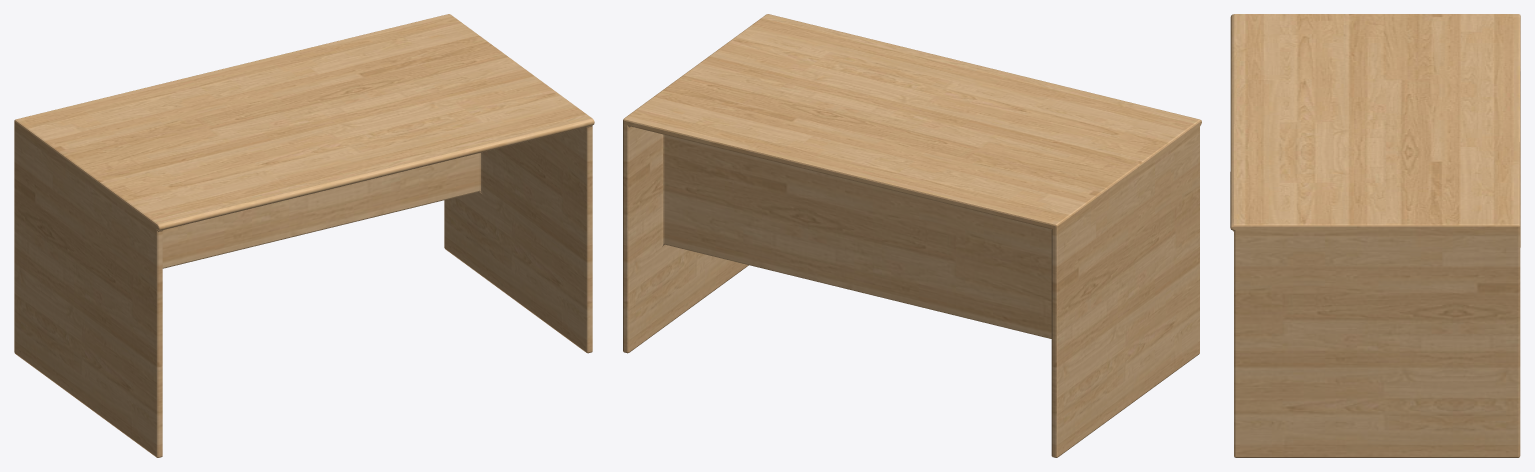
Rendered from desk_2.glb.
3 renders of one model, left to right at view 1: azimuth 30°, elevation 25°; view 2: azimuth 150°, elevation 25°; view 3: azimuth 270°, elevation 25°, orthographic.
Visible parts, largest first — view 1: Desk; view 2: Desk; view 3: Desk.
Part boxes in pixels (<box>): Desk: <box>14,14,594,457</box>; Desk: <box>623,14,1201,457</box>; Desk: <box>1230,14,1520,457</box>.
Size of the model in its own units: 1.4 by 0.72 by 0.811.
Materials: 1 (1 with a texture image).
